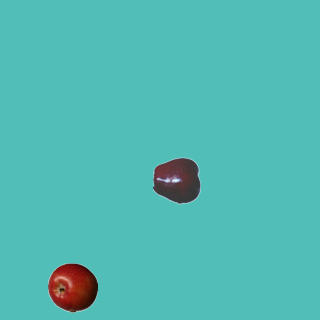Apple Braeburn: (47, 262, 97, 312)
Apple Red Delicious: (152, 155, 202, 205)
